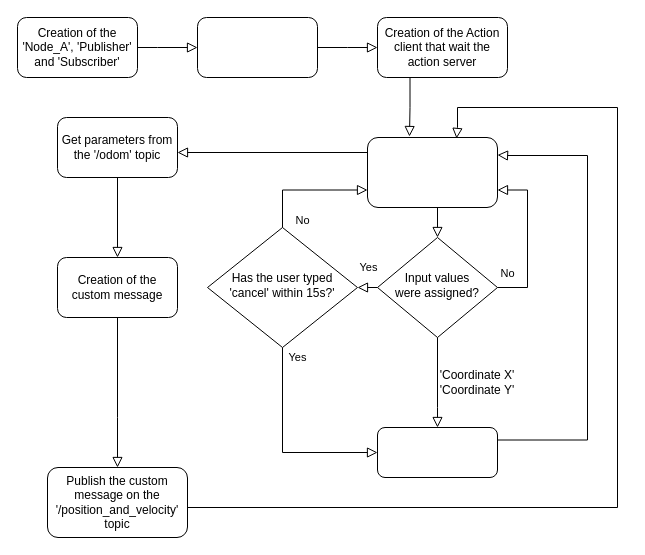
Some shapes in this 645 by 555 pixel diagram are drawn without their labels. Here are the shapes that lost their labels. From the top down, the centre of each, then its label:
pixel 257 47: Call of the 'act_client' function
pixel 432 172: The 'act_client' function requires 2 input parameters from the user
pixel 437 452: Creation of the goal for the robot and sent to the server
